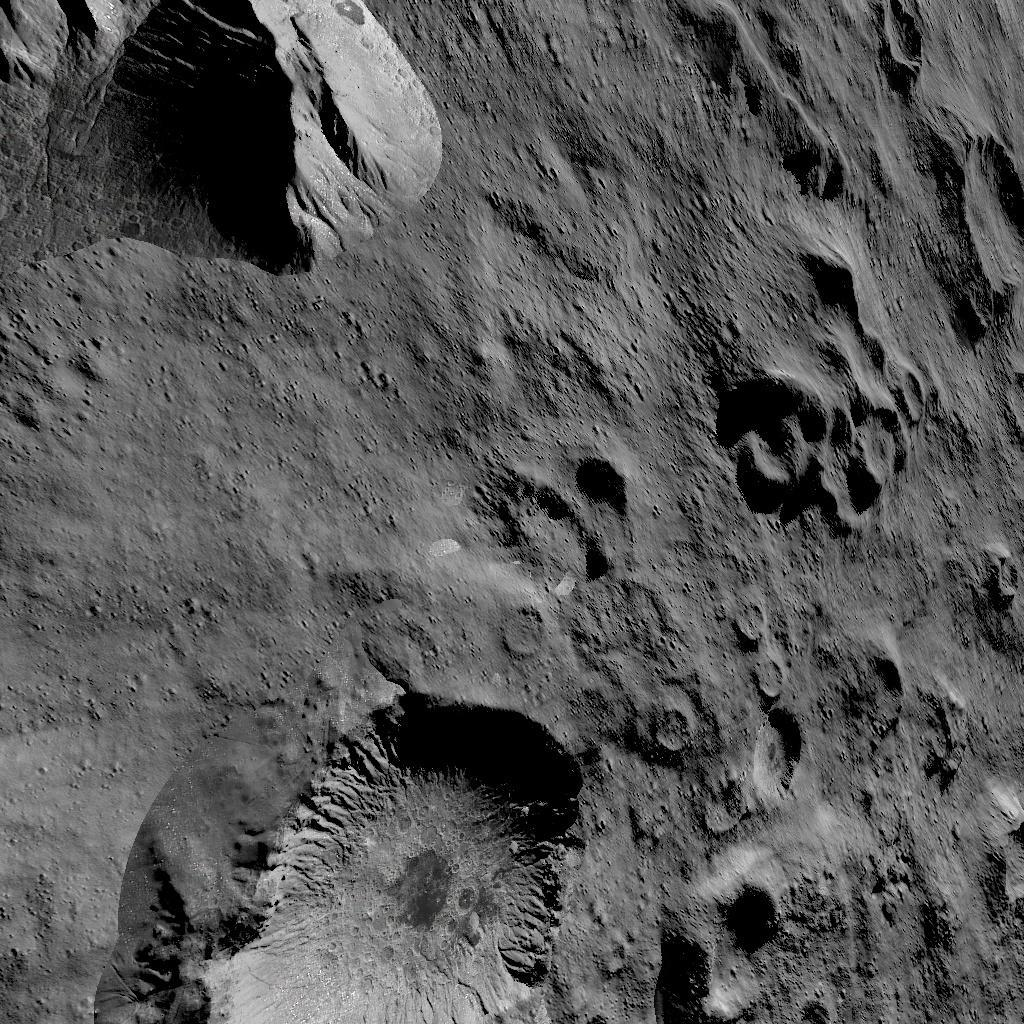Boulders: (0, 0, 421, 281)
Crater: (94, 698, 590, 1024), (718, 362, 928, 519), (450, 452, 620, 588), (652, 861, 786, 1024), (931, 121, 1024, 329), (724, 606, 805, 803), (943, 784, 1024, 928), (782, 238, 880, 342), (848, 646, 919, 734), (866, 0, 934, 85), (490, 601, 550, 668), (976, 544, 1024, 612), (643, 698, 695, 755)
Plan surface: (0, 290, 423, 681), (433, 0, 639, 441)
